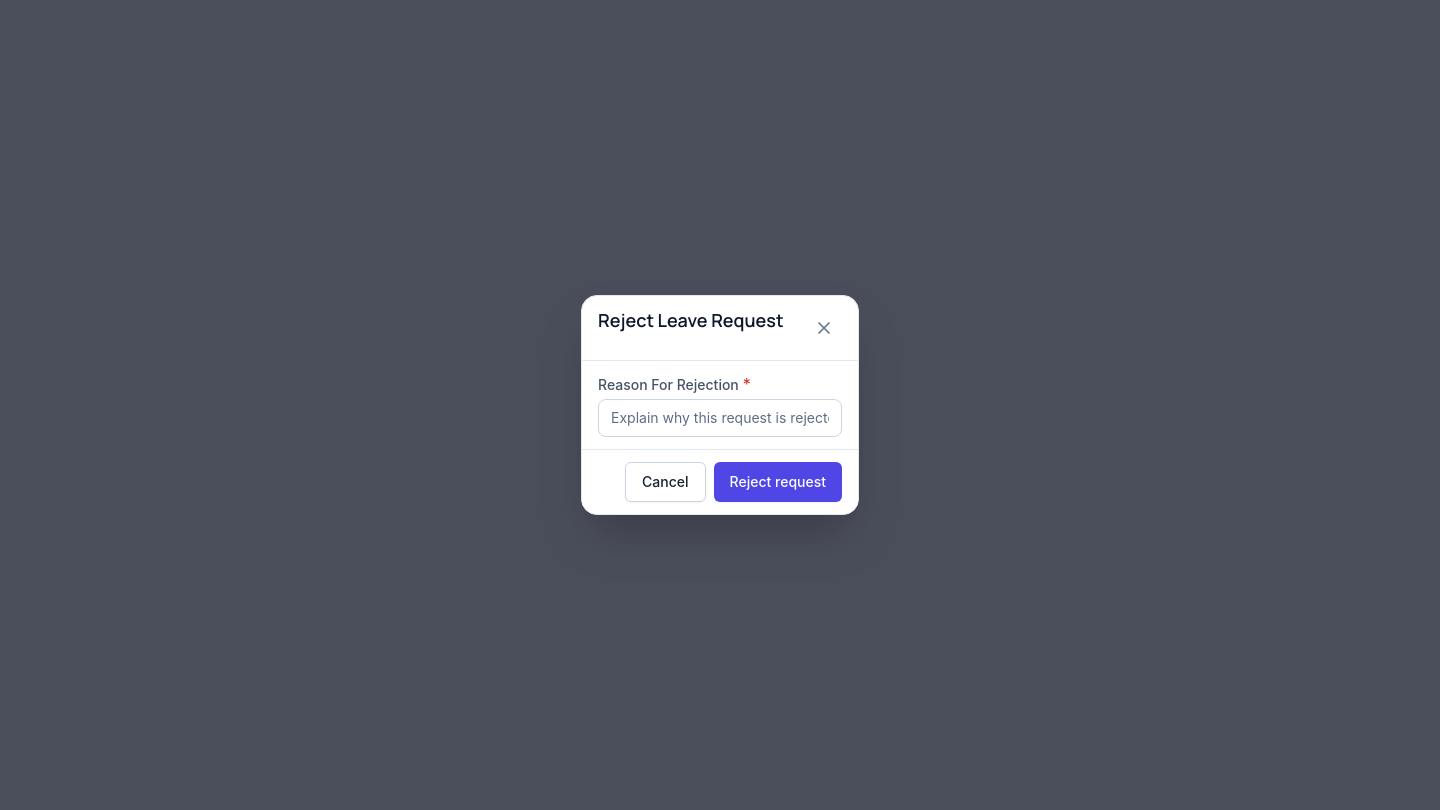
Scenario: LeaveRejectModal › refuses rejection and asks for a refresh when the expected step is absent
Type "Insufficient leave balance" into the field labelled "Reason For Rejection".
click(720, 418); type("Insufficient leave balance")  # box [598,399,842,437]
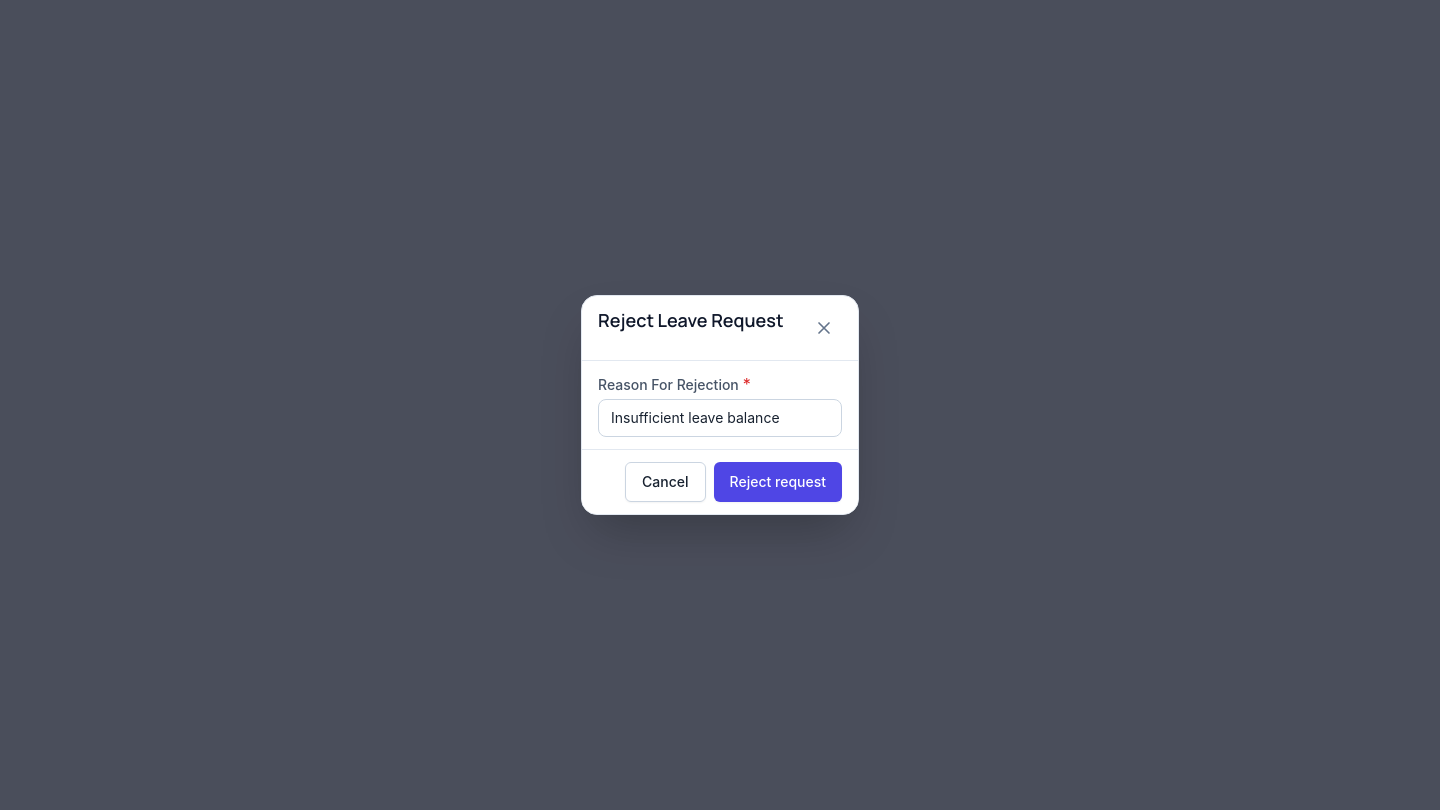
Click the button "Reject request".
click(778, 482)  # box [714,462,842,502]
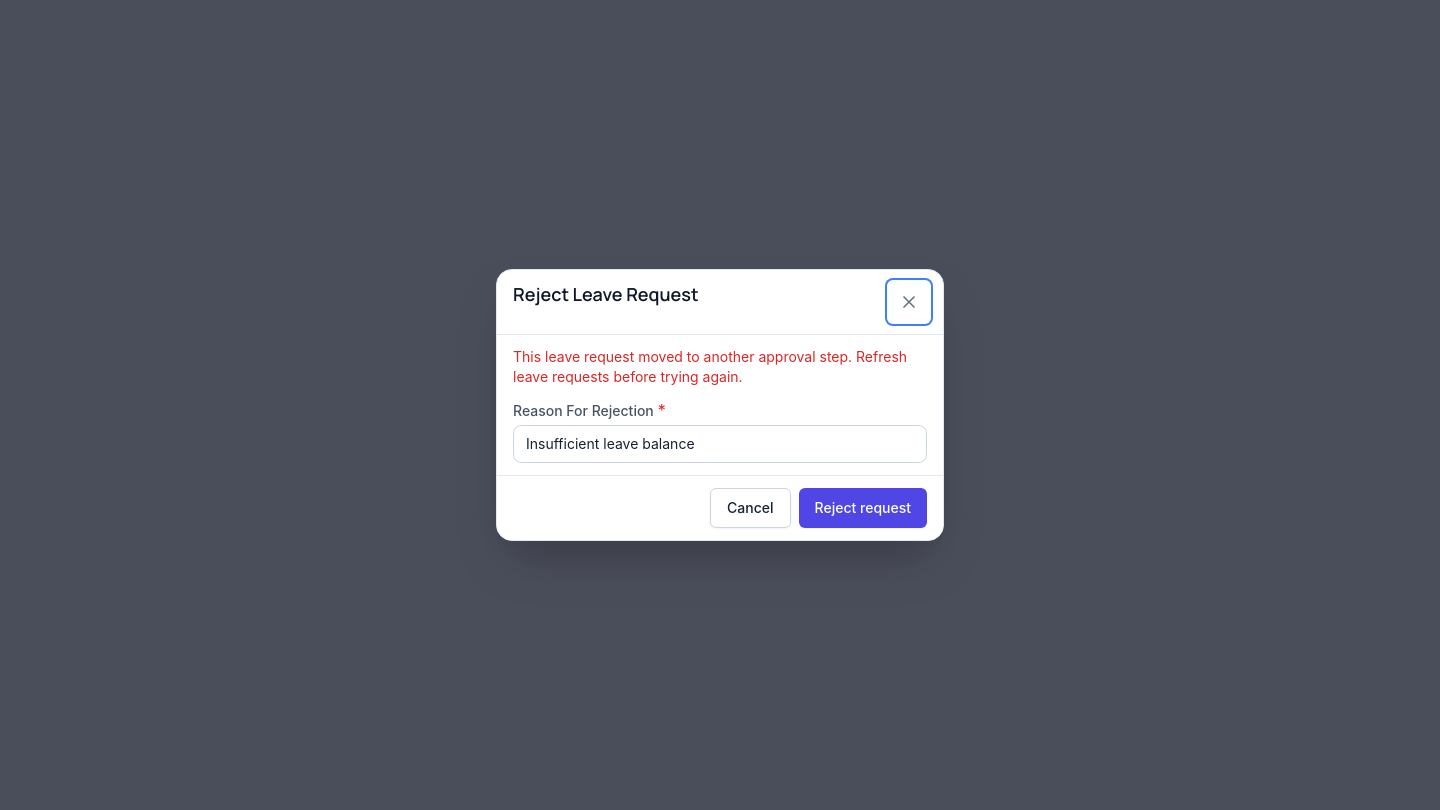
Expected: the text "This leave request moved to another approval step. Refresh leave requests before trying again." is shown, [513,348,907,385]
